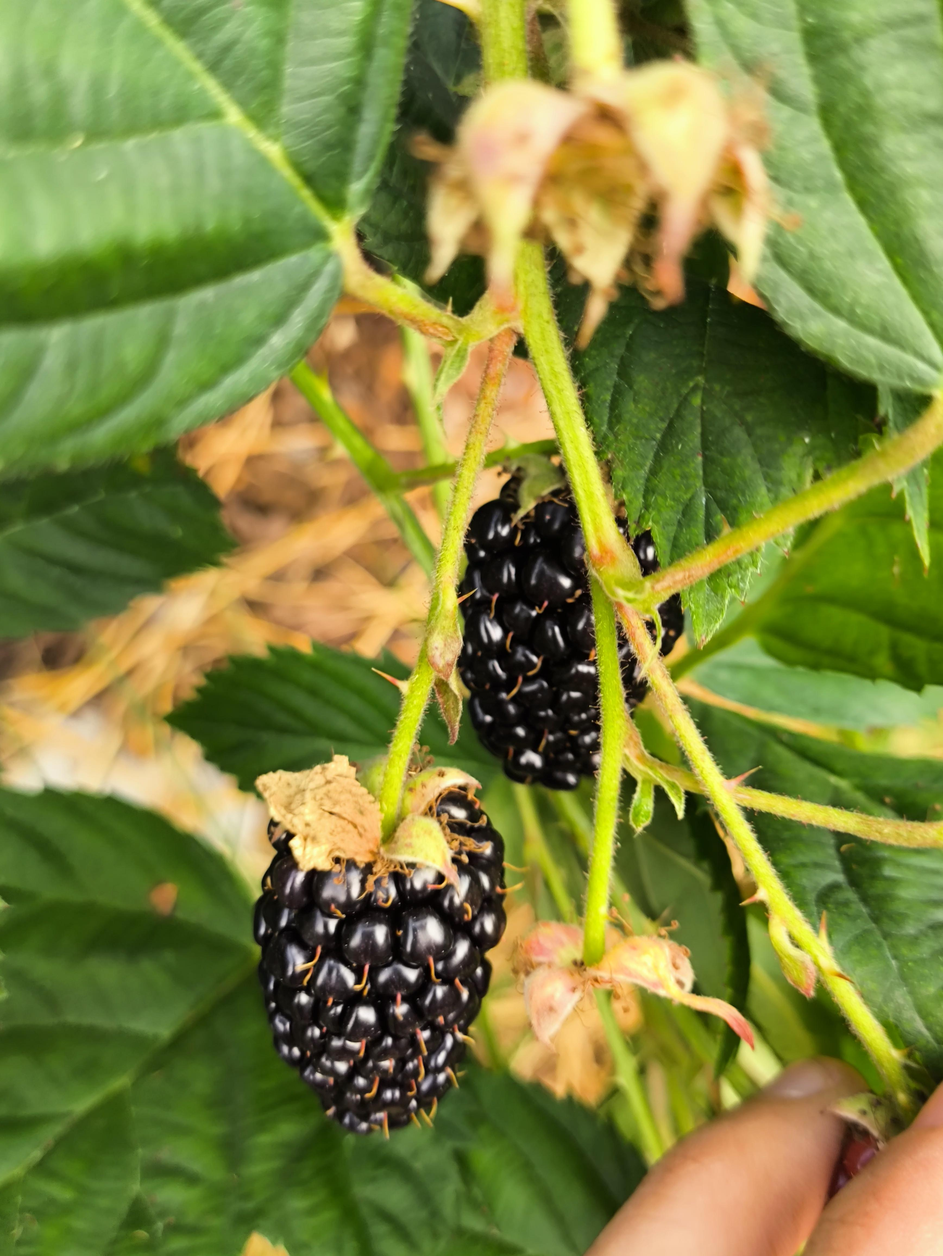maduro: (254, 770, 500, 1135), (458, 467, 608, 792)
